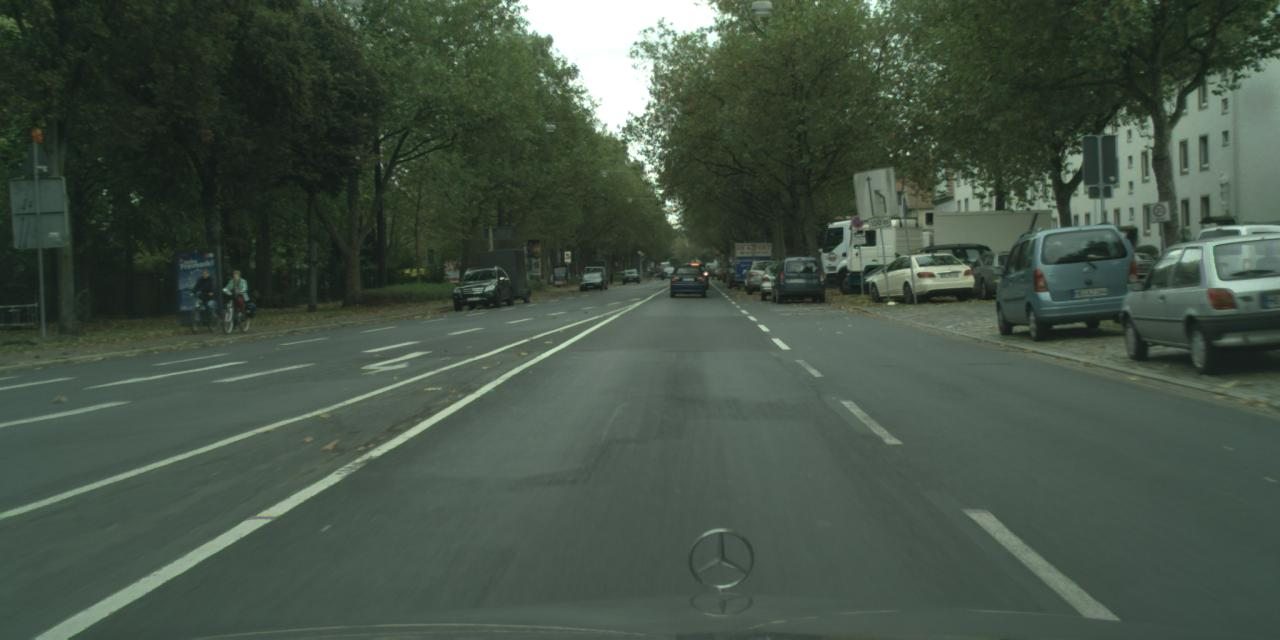ped: (197, 268, 217, 316), (228, 270, 244, 310)
